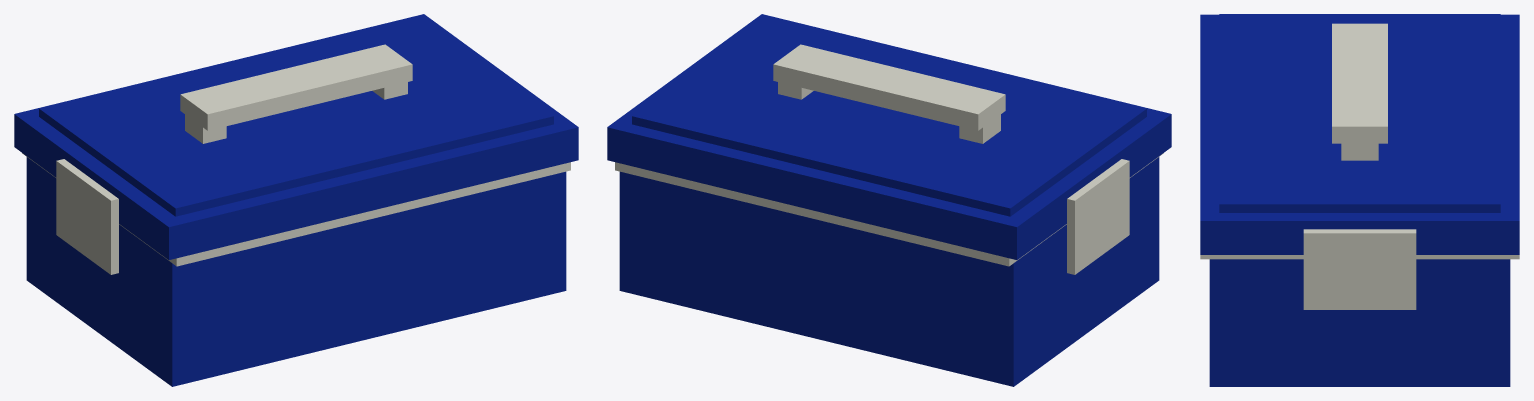
File: lunchbox.glb
The picture shows the model from 3 angles, left to right: view 1: azimuth 30°, elevation 25°; view 2: azimuth 150°, elevation 25°; view 3: azimuth 270°, elevation 25°; orthographic projection. The views are drawn at different scales.
Parts seen in each view (by area): view 1: lunchbox:compound; view 2: lunchbox:compound; view 3: lunchbox:compound.
Boxes of the visible parts, x1=… form: lunchbox:compound: x1=14, y1=14, x2=578, y2=386; lunchbox:compound: x1=607, y1=14, x2=1171, y2=386; lunchbox:compound: x1=1200, y1=14, x2=1519, y2=386.
Size of the model in its own units: 0.216 by 0.1 by 0.136.
